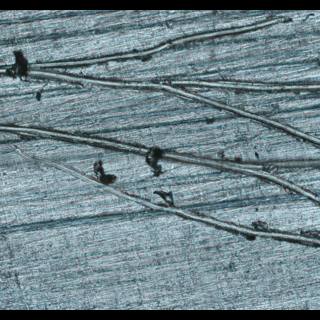d: (0, 12, 319, 260)
